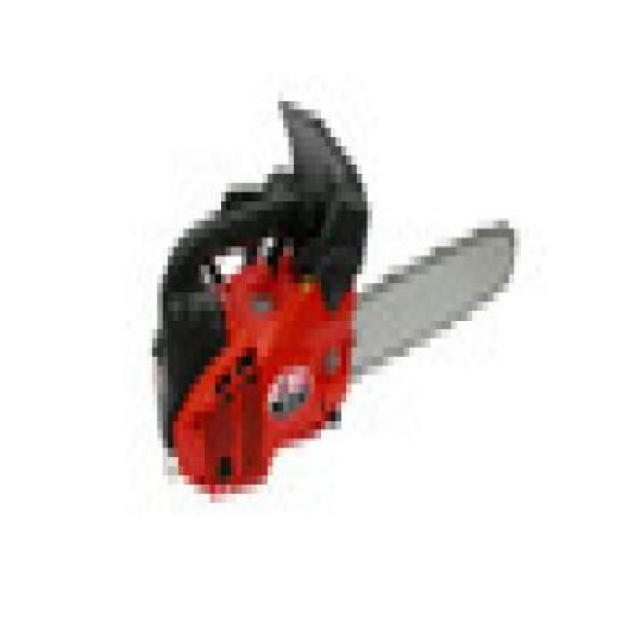Chainsaw: (148, 94, 520, 503)
